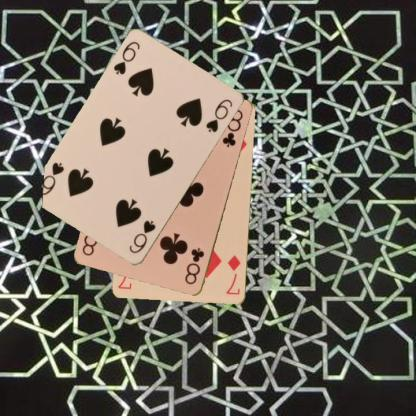6s: (111, 39, 141, 77), (127, 218, 157, 255)
7d: (224, 252, 242, 297)
8c: (182, 245, 206, 286)
